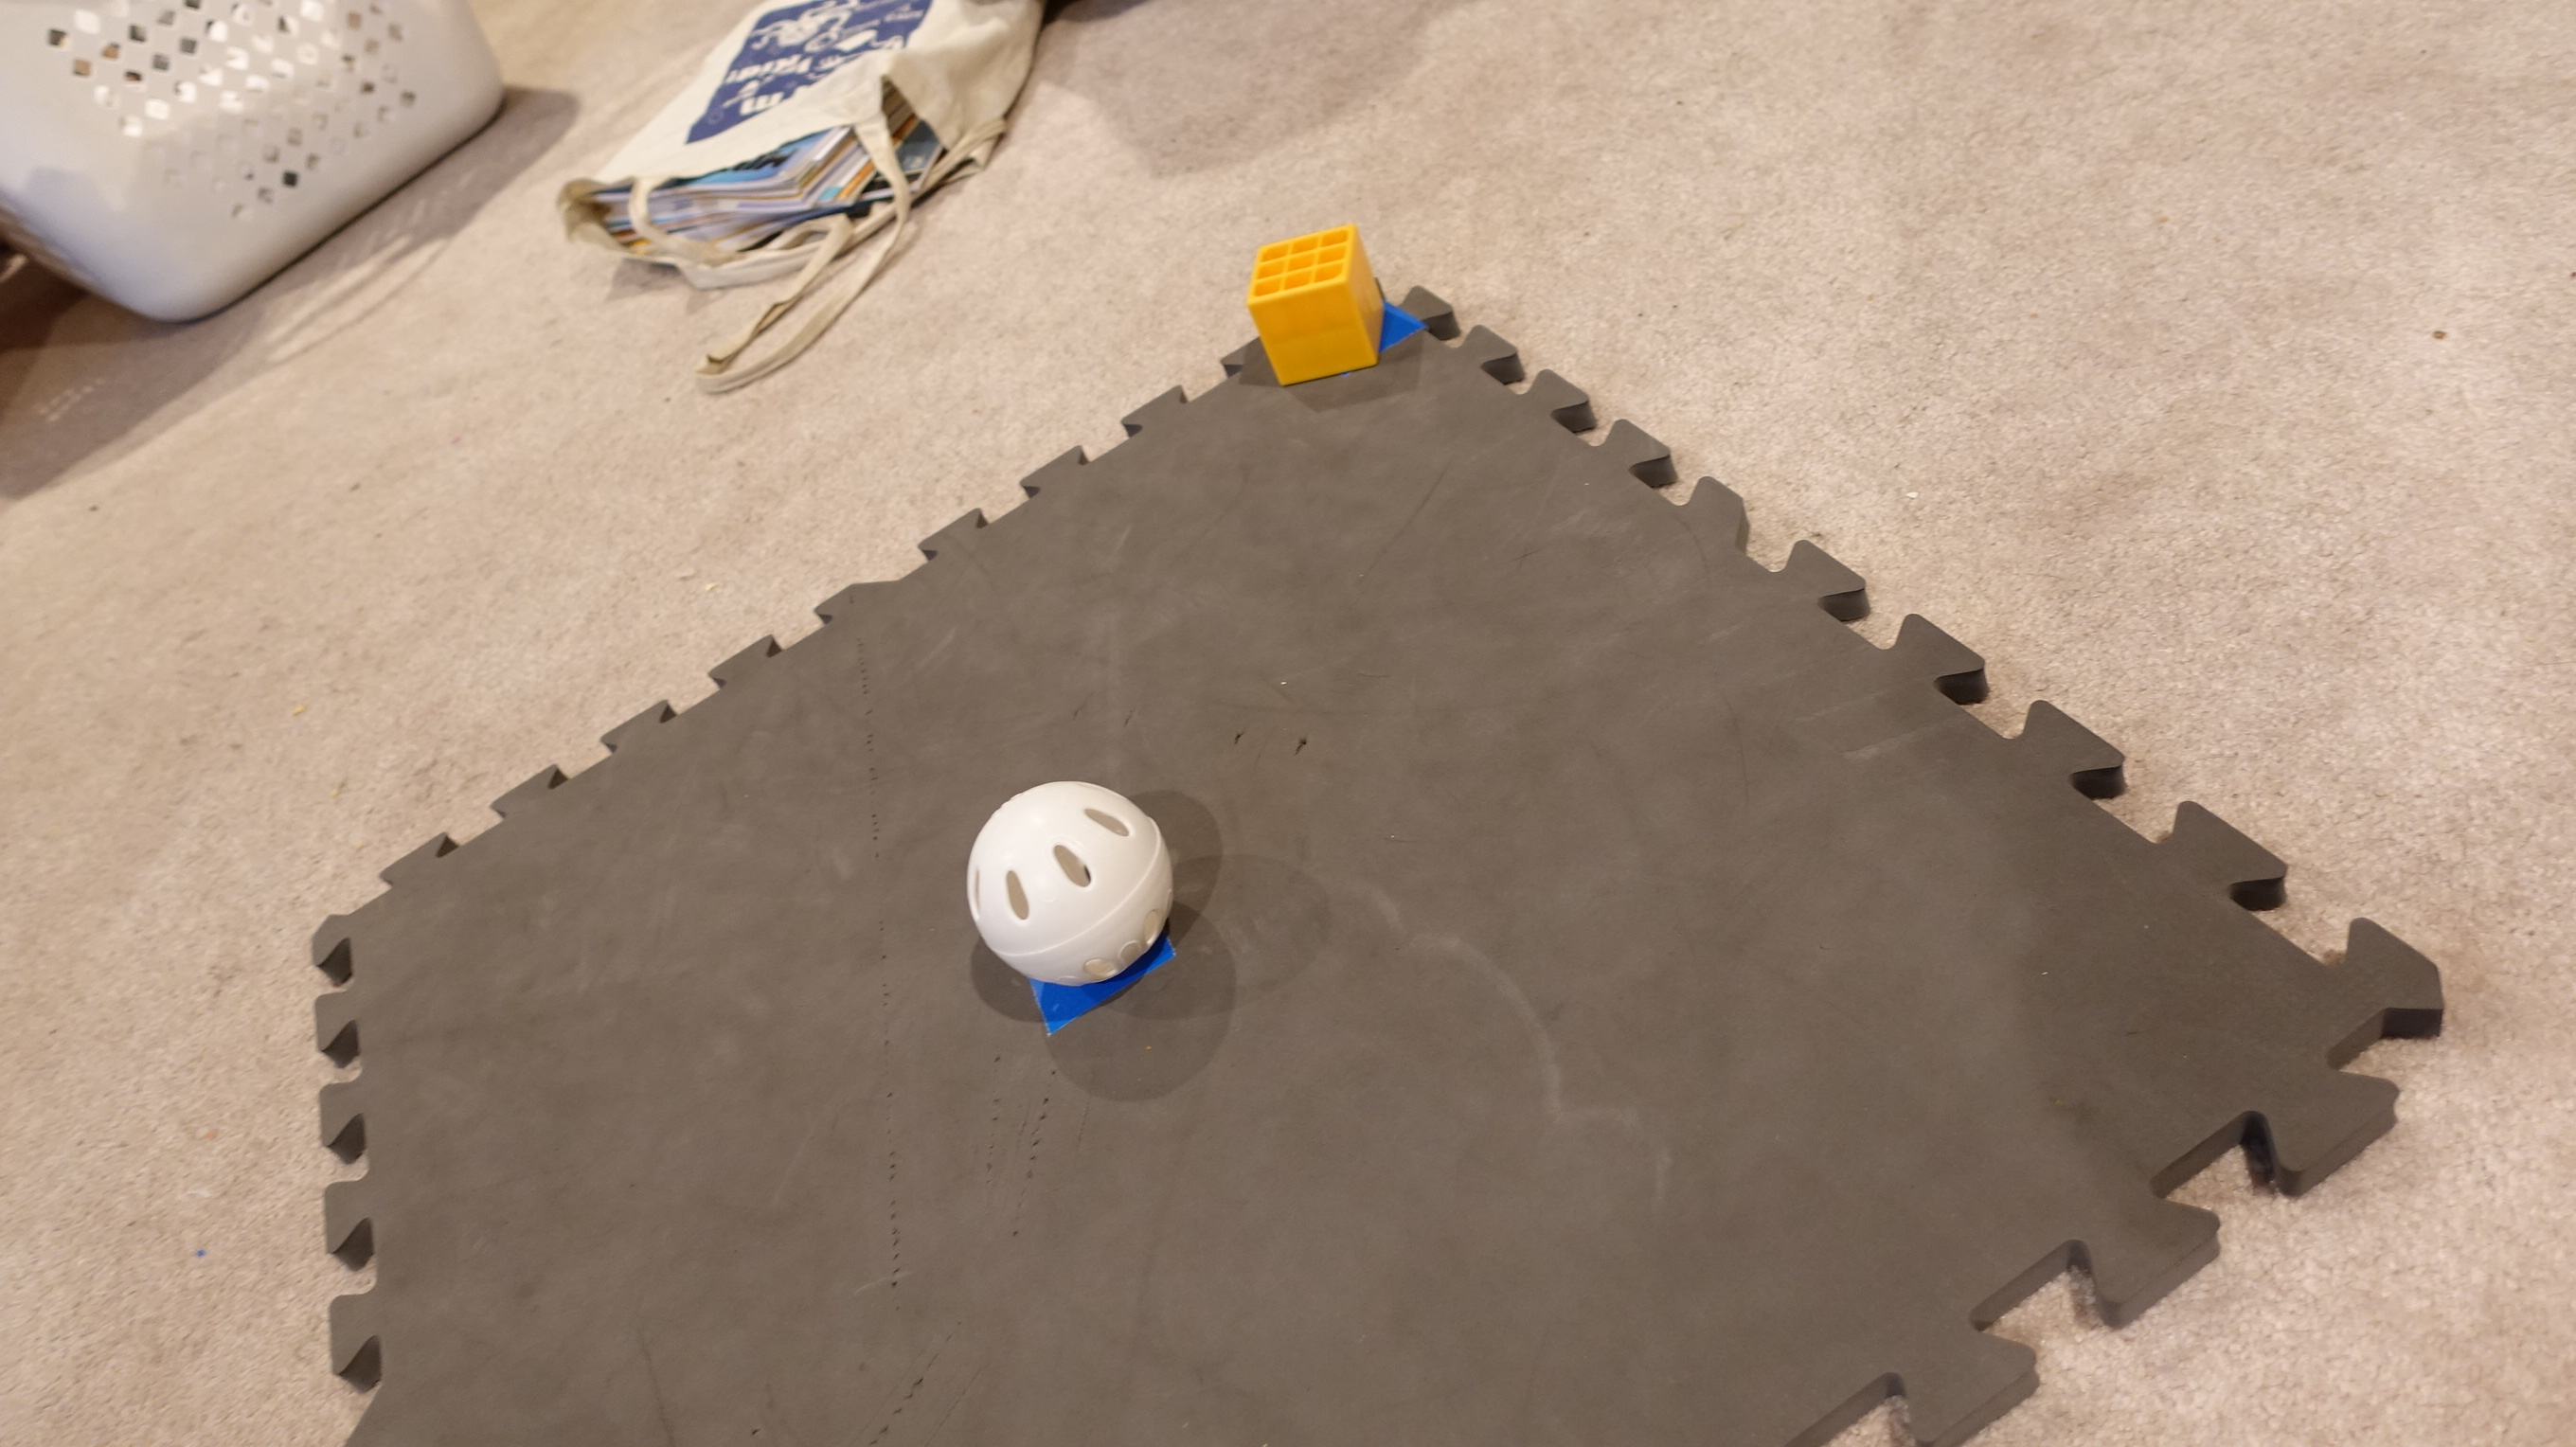gold: (1231, 219, 1414, 391)
silver: (962, 769, 1171, 998)
